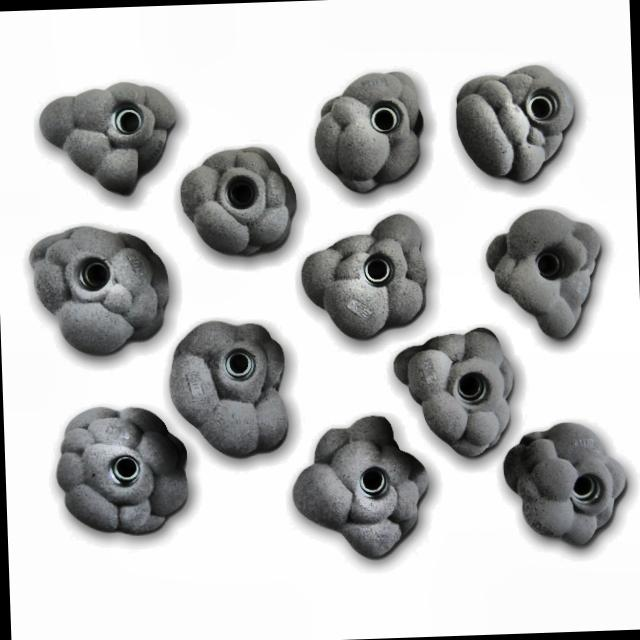Hold: (292, 410, 438, 567), (165, 312, 298, 466), (29, 218, 172, 360), (55, 402, 192, 550), (454, 58, 590, 192), (294, 211, 432, 340), (484, 206, 614, 340), (388, 323, 518, 457), (303, 62, 432, 195), (506, 420, 632, 553), (172, 142, 302, 265), (38, 84, 173, 202)
